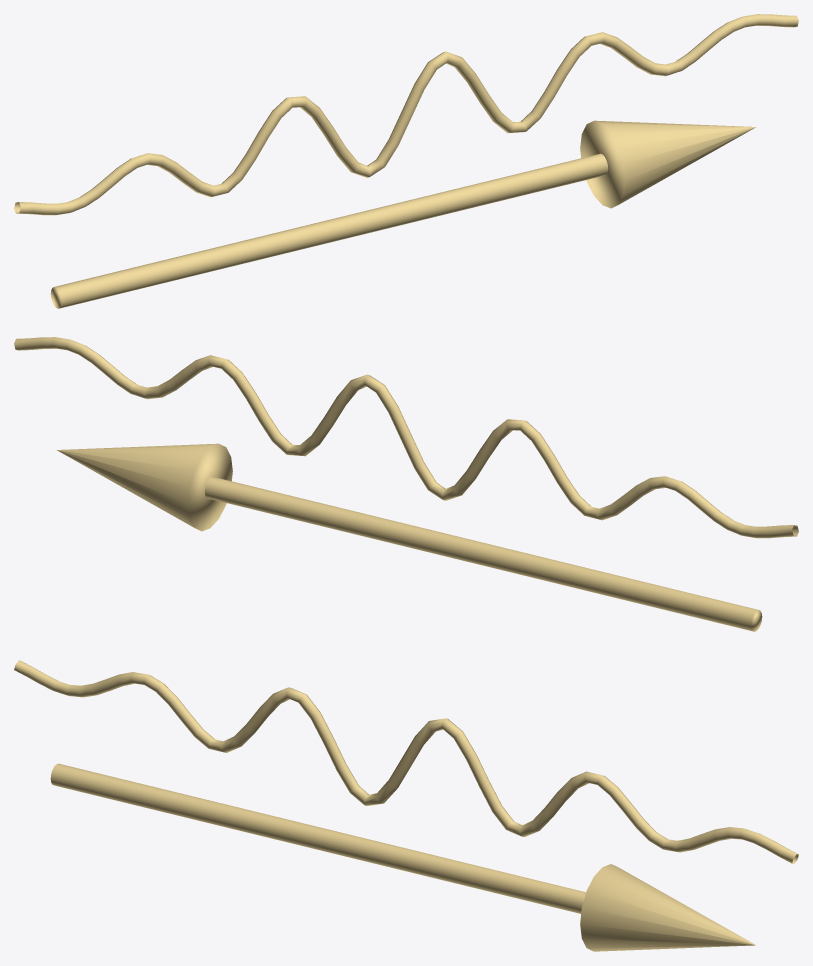
The model's file is photon-particle.glb.
The picture shows the model from 3 angles, top to bottom: view 1: azimuth 30°, elevation 25°; view 2: azimuth 150°, elevation 25°; view 3: azimuth 330°, elevation 25°; orthographic projection.
Parts seen in each view (by area): view 1: propagation_shaft, wave_packet, propagation_head; view 2: propagation_shaft, wave_packet, propagation_head; view 3: wave_packet, propagation_shaft, propagation_head.
Part boxes in pixels (x1,y1,x2,y2): propagation_shaft: [50, 153, 608, 308]; wave_packet: [14, 14, 798, 215]; propagation_head: [580, 120, 755, 208]; propagation_shaft: [204, 476, 762, 631]; wave_packet: [14, 337, 798, 538]; propagation_head: [57, 443, 232, 531]; wave_packet: [14, 660, 798, 863]; propagation_shaft: [50, 763, 585, 913]; propagation_head: [580, 864, 755, 951].
Size of the model in its own units: 2.01 by 0.4715 by 0.2.
